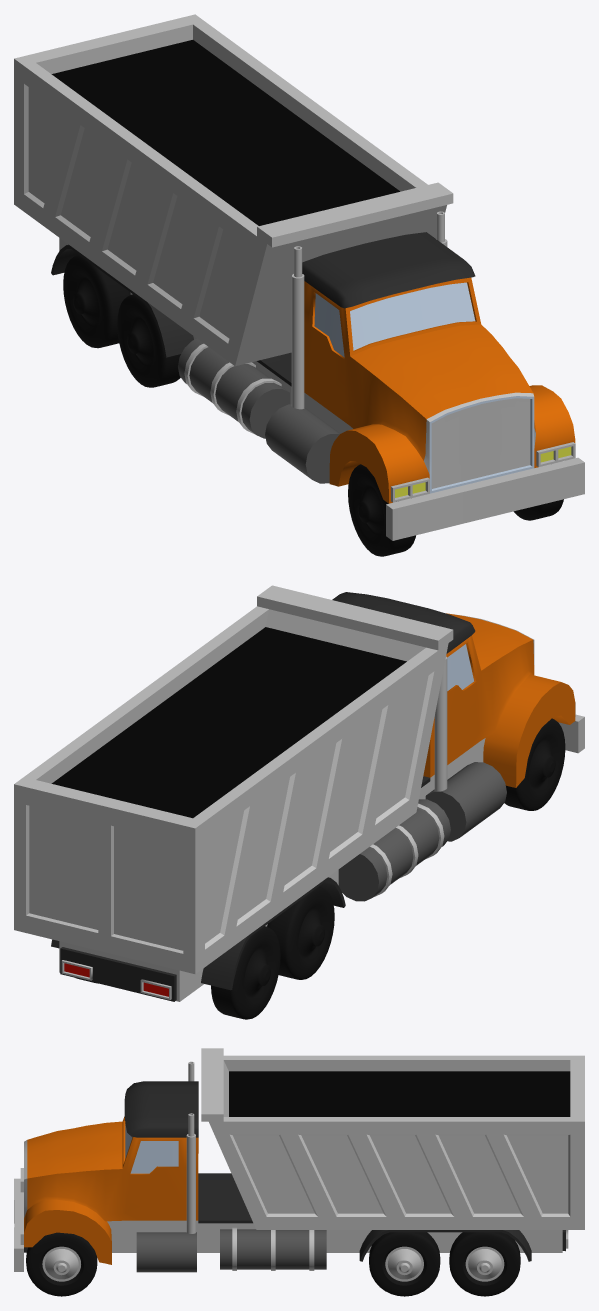
The model's file is Camion.fbx.
3 views of the same model, one above another, from view 1: azimuth 30°, elevation 25°; view 2: azimuth 150°, elevation 25°; view 3: azimuth 270°, elevation 25° (orthographic). The views are drawn at different scales.
Visible parts, largest first — view 1: Cube, Cube.001, Cube.002, Cylinder.004, Rueda.002, Cylinder.003, Rueda.001, Rueda, Cylinder.002; view 2: Cube.001, Cube.002, Cube, Cylinder.004, Rueda.001, Rueda.002, Cylinder.003, Rueda, Cylinder.002; view 3: Cube.001, Cube, Cube.002, Cylinder.004, Rueda.002, Rueda.001, Rueda, Cylinder.003, Cylinder.002.
Boxes of the visible parts, box(x1,y1,x2,y2) form: Cube: box(51, 232, 584, 540); Cube.001: box(14, 14, 453, 366); Cube.002: box(51, 40, 399, 225); Cylinder.004: box(178, 338, 289, 438); Rueda.002: box(63, 255, 130, 348); Cylinder.003: box(265, 404, 340, 483); Rueda.001: box(117, 294, 180, 387); Rueda: box(348, 464, 563, 556); Cylinder.002: box(291, 211, 447, 409); Cube.001: box(14, 585, 453, 974); Cube.002: box(51, 627, 406, 818); Cube: box(51, 592, 584, 1001); Cylinder.004: box(338, 799, 450, 901); Rueda.001: box(267, 886, 334, 979); Rueda.002: box(76, 926, 280, 1019); Cylinder.003: box(425, 762, 506, 841); Rueda: box(504, 718, 565, 810); Cylinder.002: box(434, 656, 447, 791); Cube.001: box(201, 1048, 584, 1229); Cube: box(14, 1081, 568, 1271); Cube.002: box(229, 1071, 570, 1116); Cylinder.004: box(220, 1227, 326, 1270); Rueda.002: box(449, 1232, 520, 1296); Rueda.001: box(369, 1232, 440, 1296); Rueda: box(26, 1232, 97, 1296); Cylinder.003: box(136, 1232, 196, 1272); Cylinder.002: box(186, 1061, 195, 1233).
Size of the model in its own units: 1202 by 1395 by 3903.
